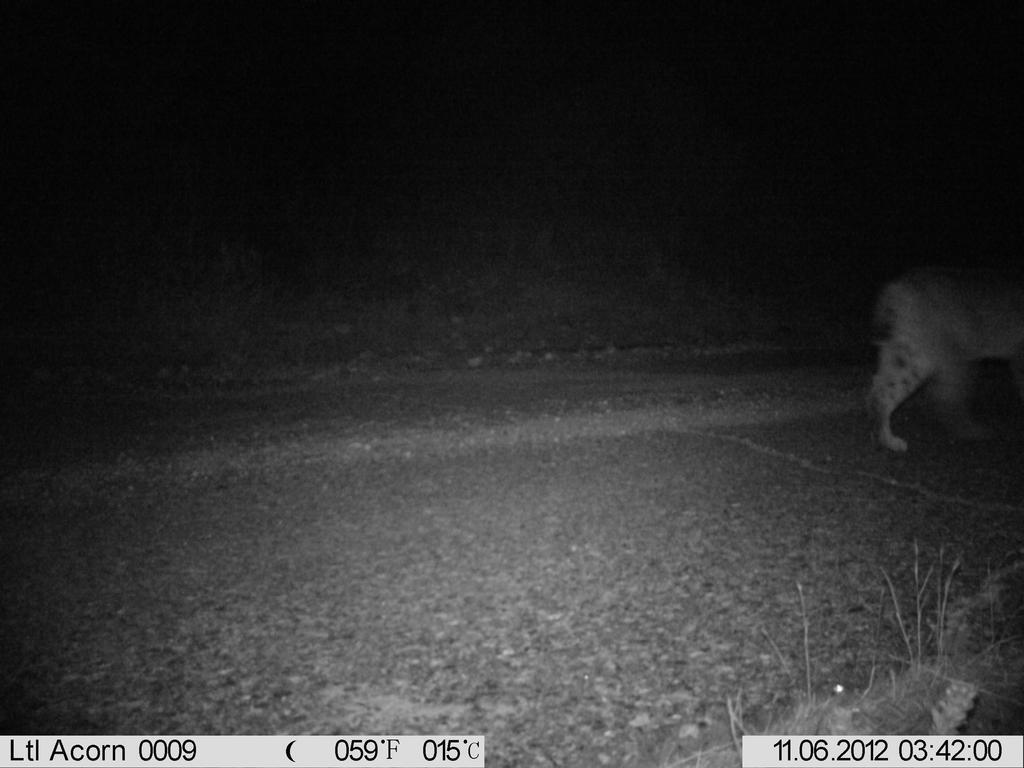bobcat: (853, 246, 1021, 470)
